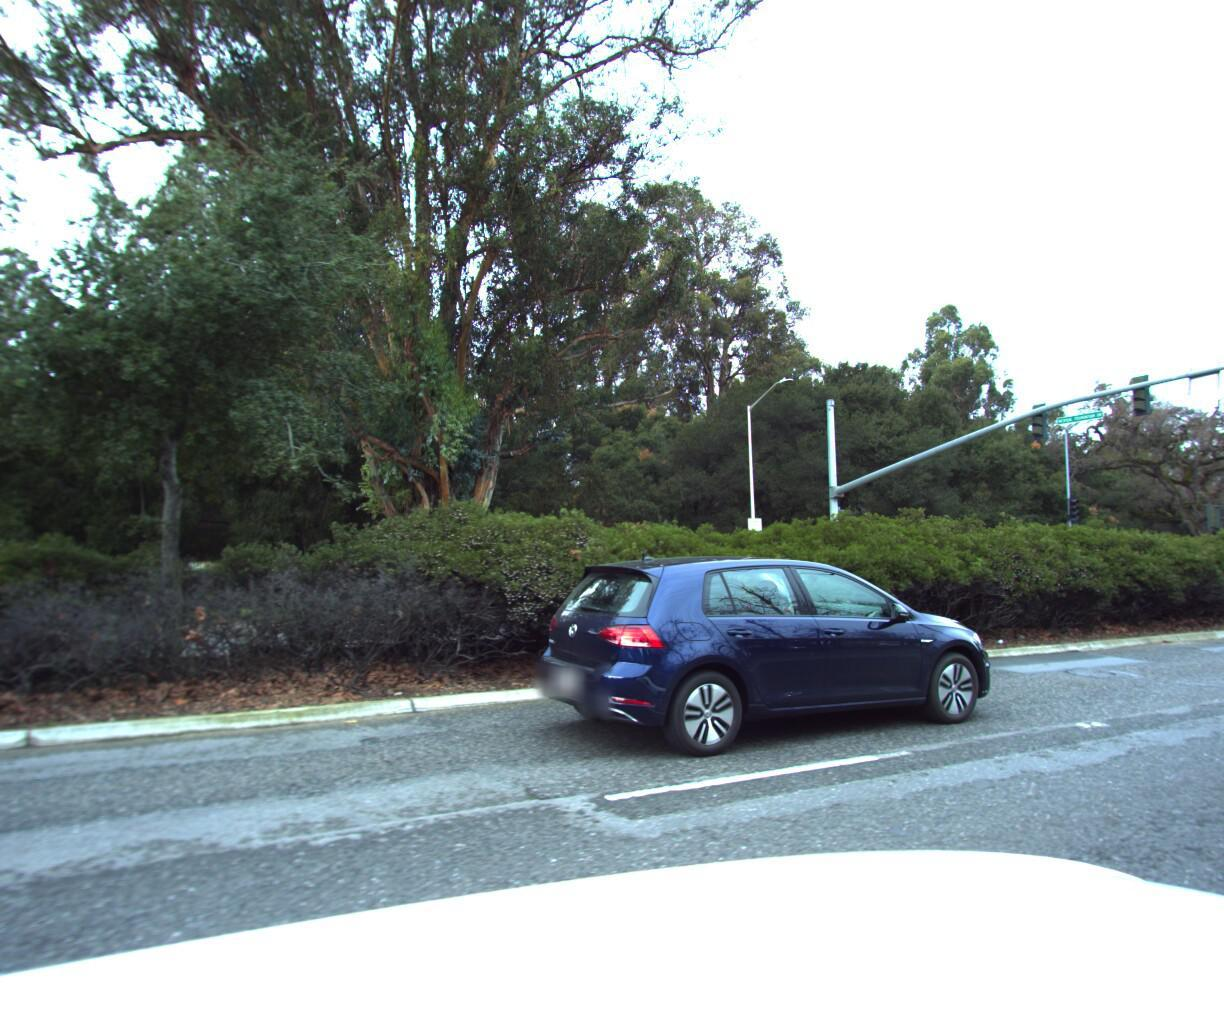car: (517, 541, 1005, 767)
